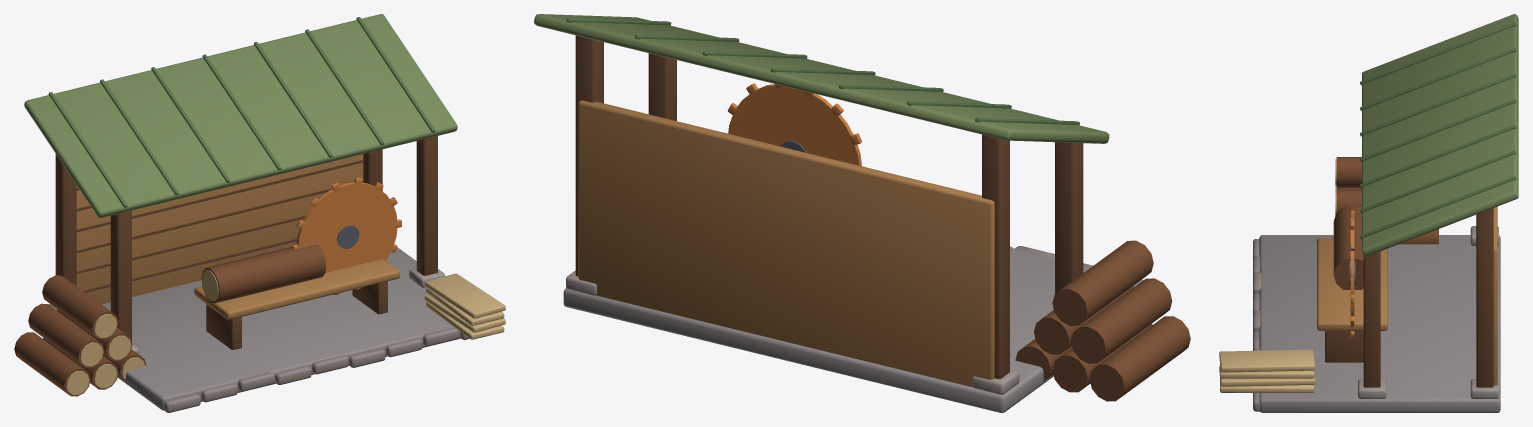
The model's file is sawmill1.glb.
The picture shows the model from 3 angles, left to right: view 1: azimuth 30°, elevation 25°; view 2: azimuth 150°, elevation 25°; view 3: azimuth 270°, elevation 25°; orthographic projection. The views are drawn at different scales.
Parts seen in each view (by area): view 1: pine-roof, pine-frame, stone-floor, site, copper-blade; view 2: pine-frame, pine-roof, site, stone-floor, copper-blade; view 3: pine-roof, stone-floor, pine-frame, site, copper-blade.
Boxes of the visible parts, x1=… form: pine-roof: x1=24, y1=14, x2=457, y2=217; pine-frame: x1=55, y1=135, x2=437, y2=349; stone-floor: x1=49, y1=247, x2=469, y2=412; site: x1=14, y1=273, x2=505, y2=396; copper-blade: x1=292, y1=177, x2=401, y2=294; pine-frame: x1=575, y1=35, x2=1083, y2=387; pine-roof: x1=534, y1=14, x2=1109, y2=143; site: x1=1015, y1=240, x2=1190, y2=401; stone-floor: x1=563, y1=246, x2=1143, y2=412; copper-blade: x1=728, y1=83, x2=862, y2=166; pine-roof: x1=1360, y1=14, x2=1518, y2=256; stone-floor: x1=1253, y1=226, x2=1500, y2=412; pine-frame: x1=1317, y1=205, x2=1497, y2=387; site: x1=1219, y1=157, x2=1438, y2=392; copper-blade: x1=1349, y1=210, x2=1355, y2=336.
Bounding box in the file's own units: 6.12 × 3.25 × 3.81.
